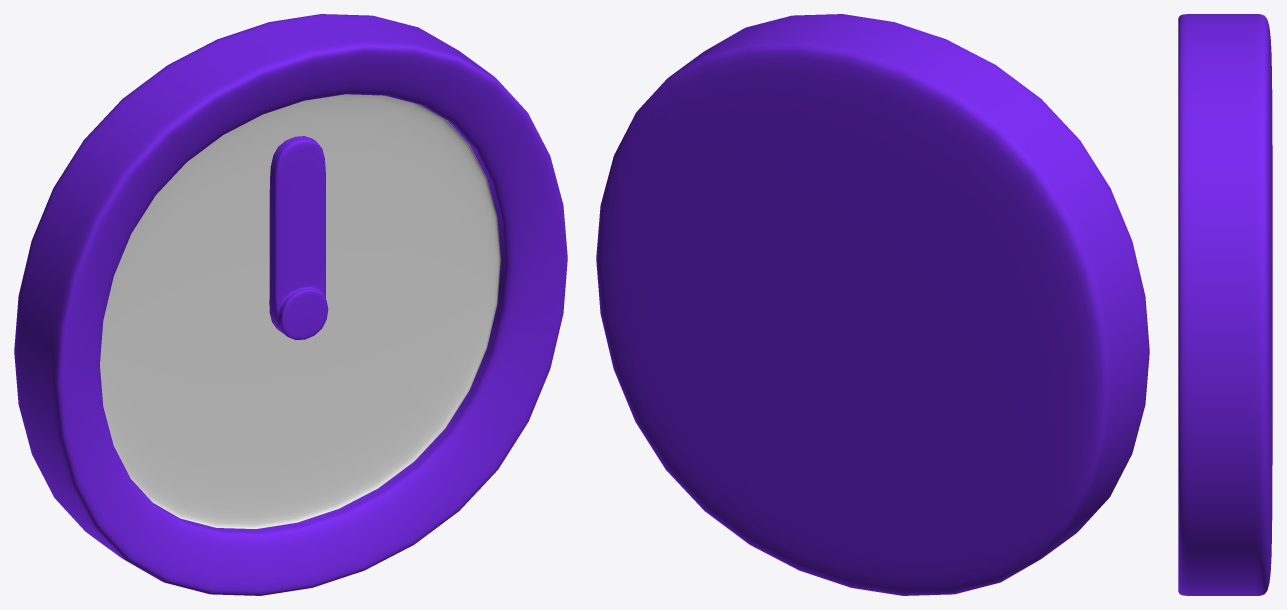
The model's file is Clock.glb.
3 renders of one model, left to right at view 1: azimuth 30°, elevation 25°; view 2: azimuth 150°, elevation 25°; view 3: azimuth 270°, elevation 25°, orthographic. The views are drawn at different scales.
Visible parts, largest first — view 1: Clock, Pointer; view 2: Clock; view 3: Clock.
Boxes of the visible parts, box(x1,y1,x2,y2) form: Clock: box(14, 14, 567, 595); Pointer: box(269, 136, 328, 339); Clock: box(596, 14, 1149, 595); Clock: box(1178, 14, 1272, 595).
Bounding box in the file's own units: 1.83 × 1.83 × 0.3016.
